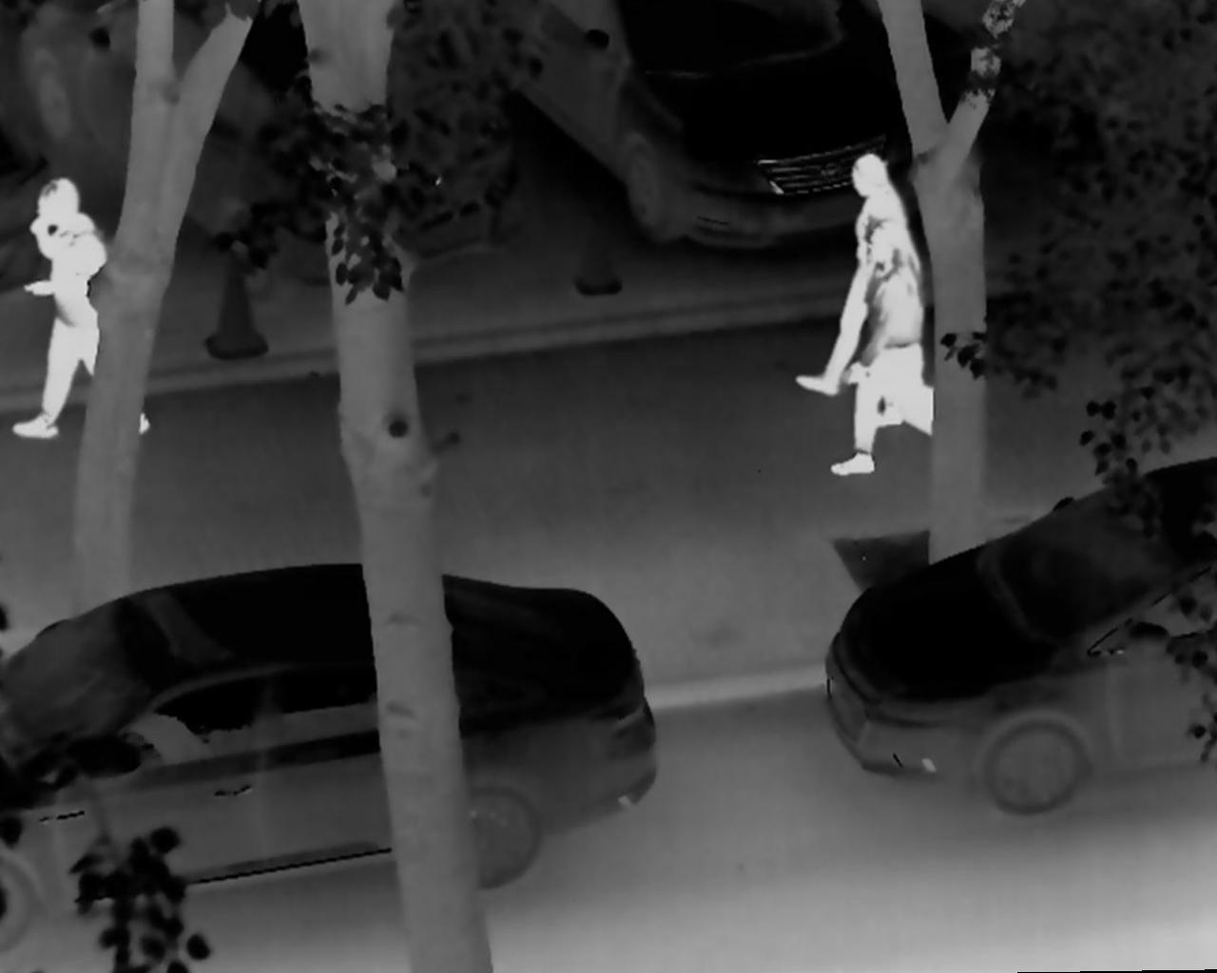person: (828, 214, 976, 477), (791, 150, 918, 394), (854, 214, 942, 442)
